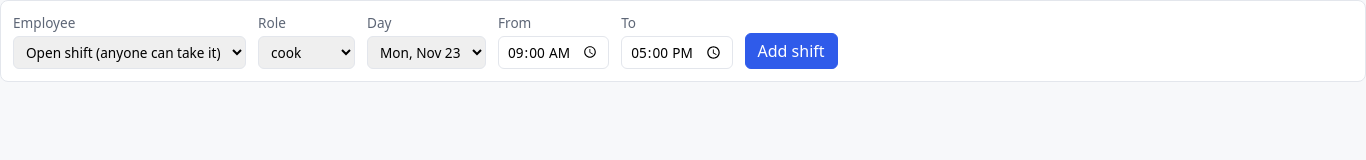
Test: ShiftForm › sends wall-clock times at the location and takes the employee's role
Later steps or results of the test are not shown.
Select "Dev Patel (cashier)" in the dropdown labelled "Employee" at (130, 52), box [13,36,246,69]
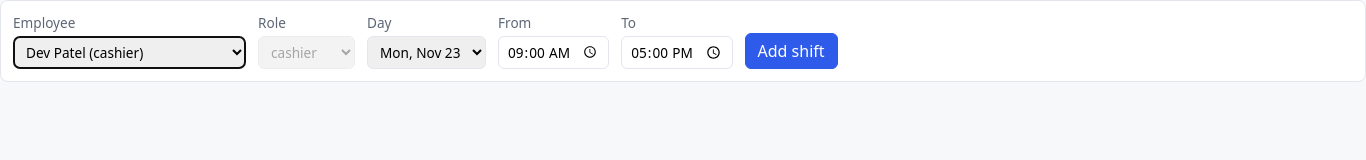
Result: the dropdown labelled "Role" shows "cashier" at [258,36,355,69]
